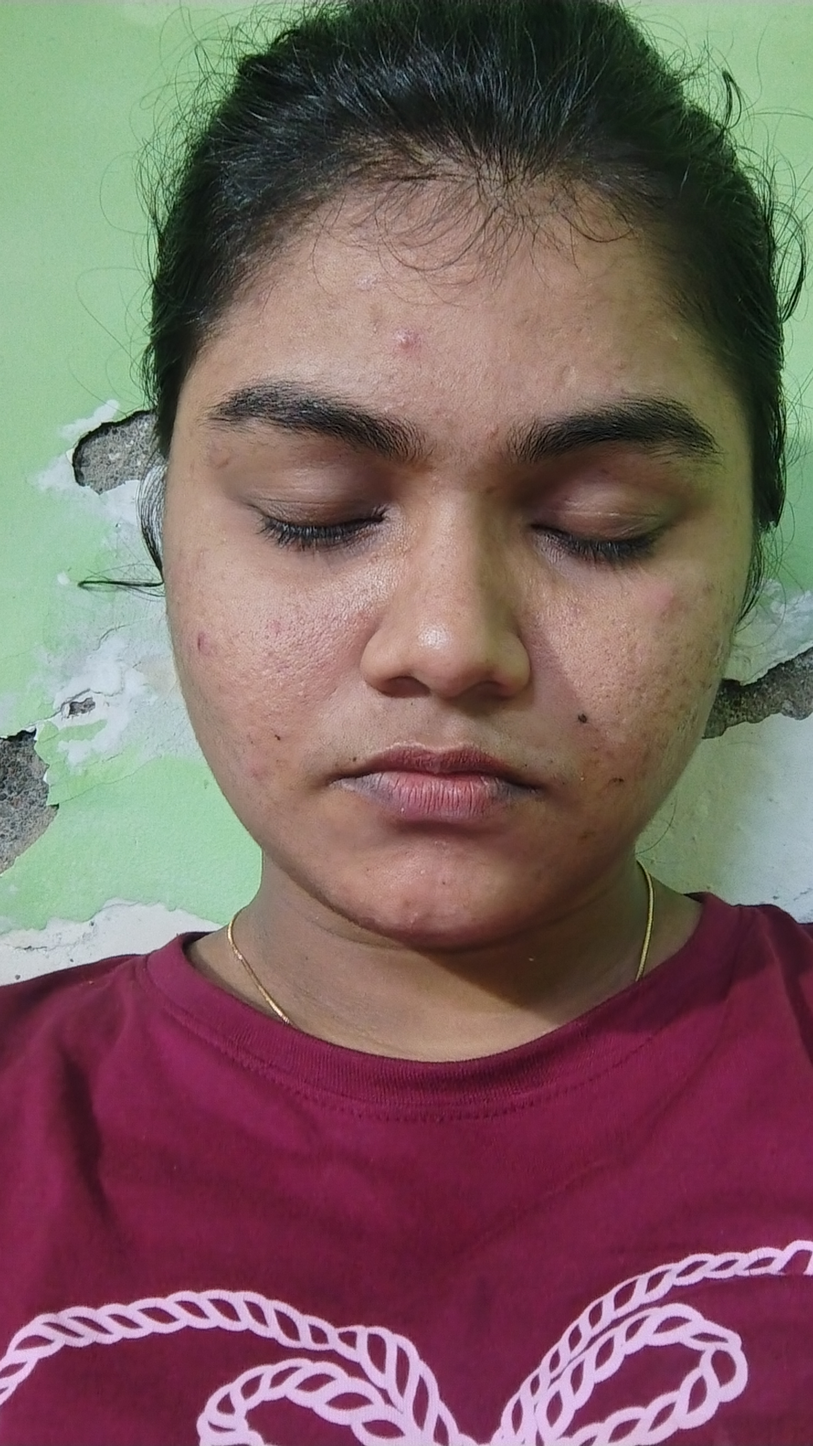closed_comedone: (404, 908, 428, 926), (426, 837, 451, 854)
papule: (642, 580, 685, 621), (389, 319, 422, 354), (480, 418, 505, 439)
